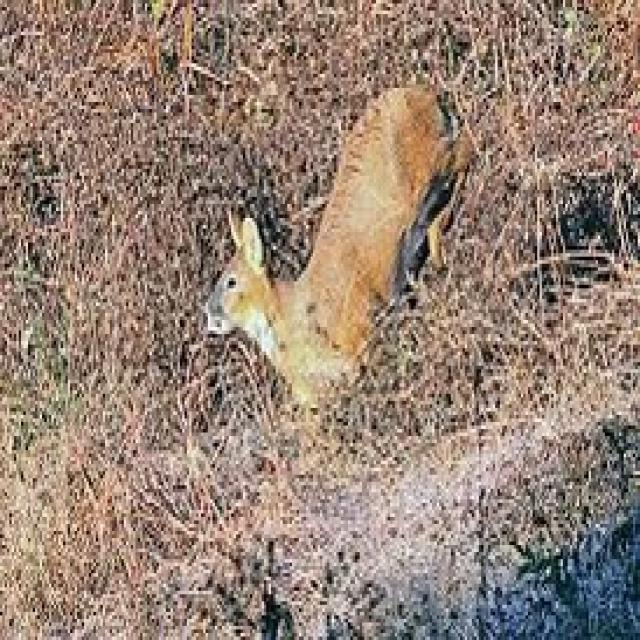elk: (171, 39, 480, 471)
